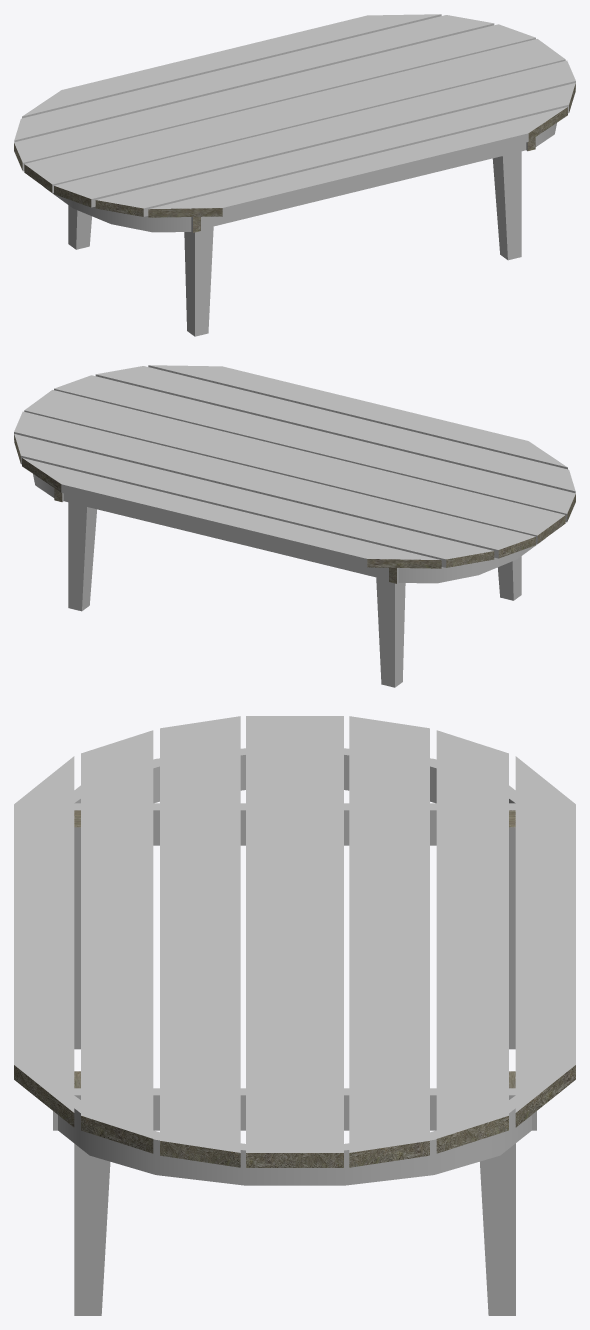
The model's file is CoffeTableA.fbx.
3 renders of one model, top to bottom at view 1: azimuth 30°, elevation 25°; view 2: azimuth 150°, elevation 25°; view 3: azimuth 270°, elevation 25°, orthographic. The views are drawn at different scales.
Visible parts, largest first — view 1: CoffeTableA; view 2: CoffeTableA; view 3: CoffeTableA.
Part boxes in pixels (bbox=[...]): CoffeTableA: bbox=[14, 14, 575, 336]; CoffeTableA: bbox=[14, 365, 575, 687]; CoffeTableA: bbox=[14, 716, 575, 1315].
Bounding box in the file's own units: 199 × 51.56 × 108.
